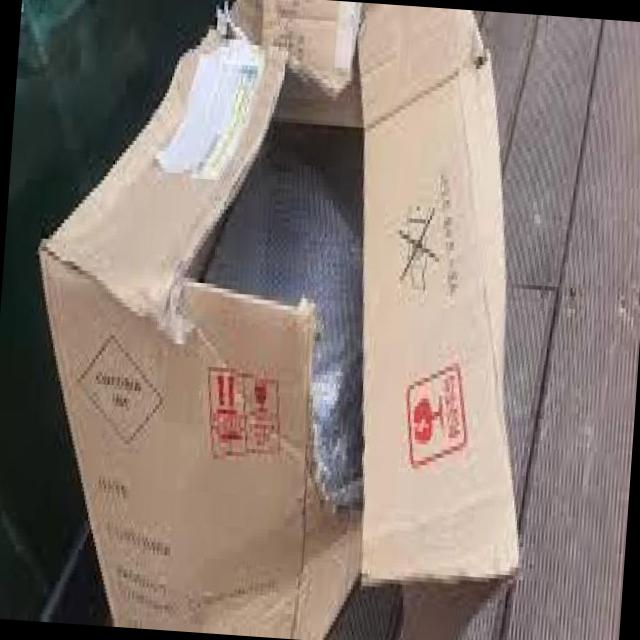box: (73, 67, 582, 594)
